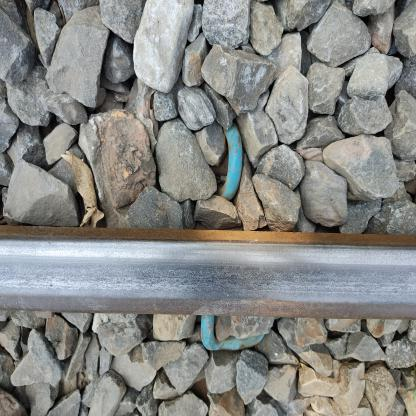Non Defective 1: (178, 96, 262, 228), (186, 295, 288, 375)
